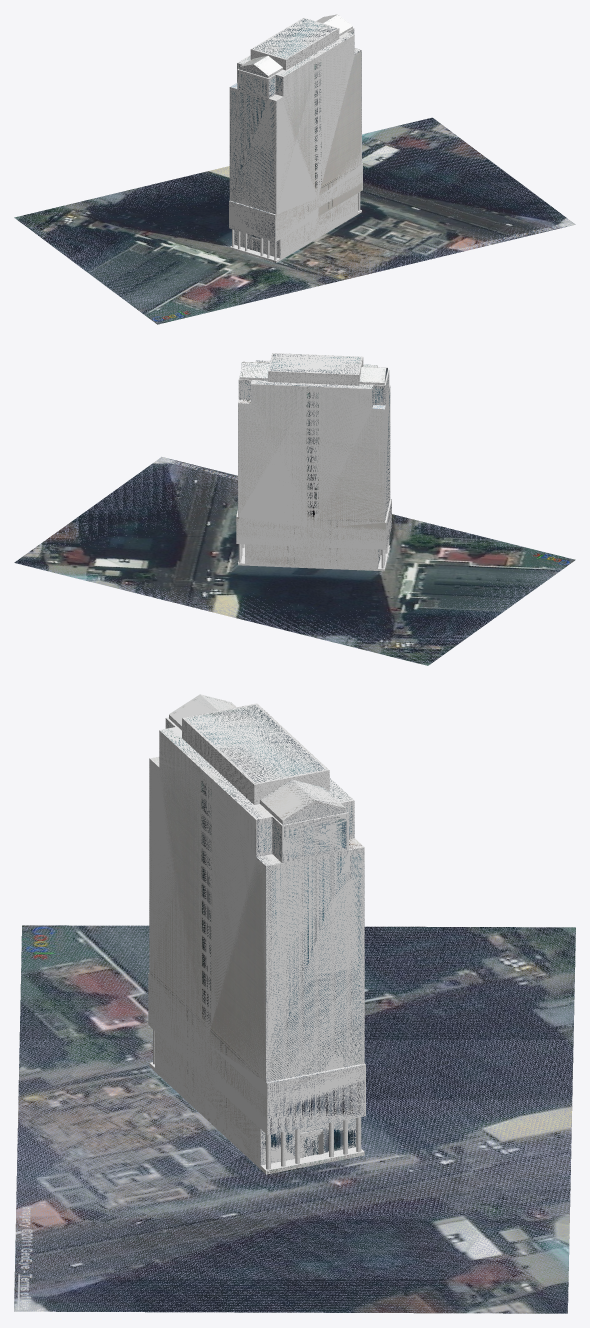
3 renders of one model, top to bottom at view 1: azimuth 30°, elevation 25°; view 2: azimuth 150°, elevation 25°; view 3: azimuth 270°, elevation 25°, orthographic. The views are drawn at different scales.
Parts seen in each view (by area): view 1: Google_Earth_Snapshot, Component_3_1; view 2: Google_Earth_Snapshot, Component_3_1; view 3: Google_Earth_Snapshot, Component_3_1.
Boxes of the visible parts, box(x1,y1,x2,y2) form: Google_Earth_Snapshot: box(14, 117, 575, 324); Component_3_1: box(229, 14, 362, 262); Google_Earth_Snapshot: box(14, 457, 575, 665); Component_3_1: box(236, 353, 391, 571); Google_Earth_Snapshot: box(14, 925, 575, 1313); Component_3_1: box(148, 694, 365, 1174).
Bounding box in the file's own units: 205 × 90 × 125.
